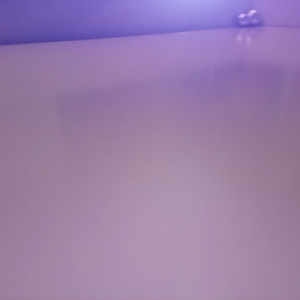alive_ball: (246, 10, 260, 27), (236, 13, 250, 27)
